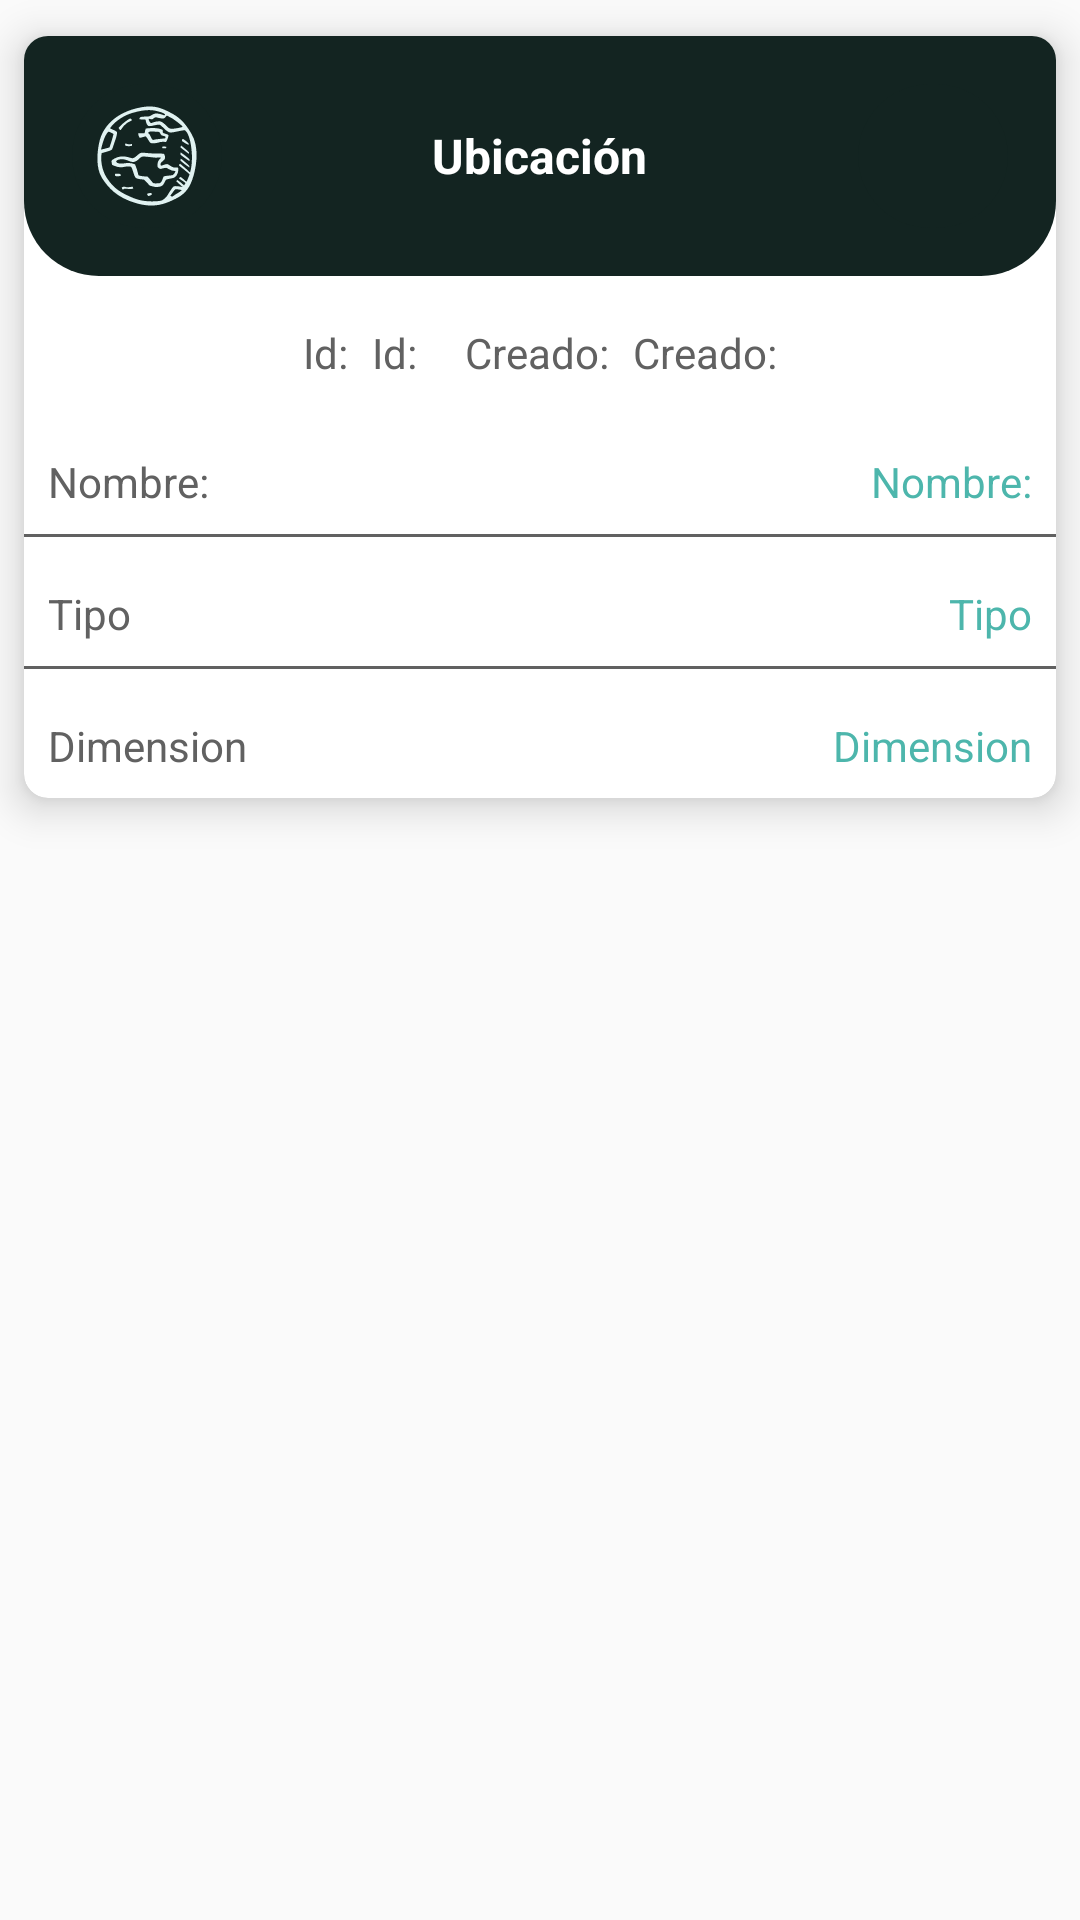

Icons on this 1080px×1920px Android screen, each with the point to tap as point (x, y):
localiza: point (147, 156)
